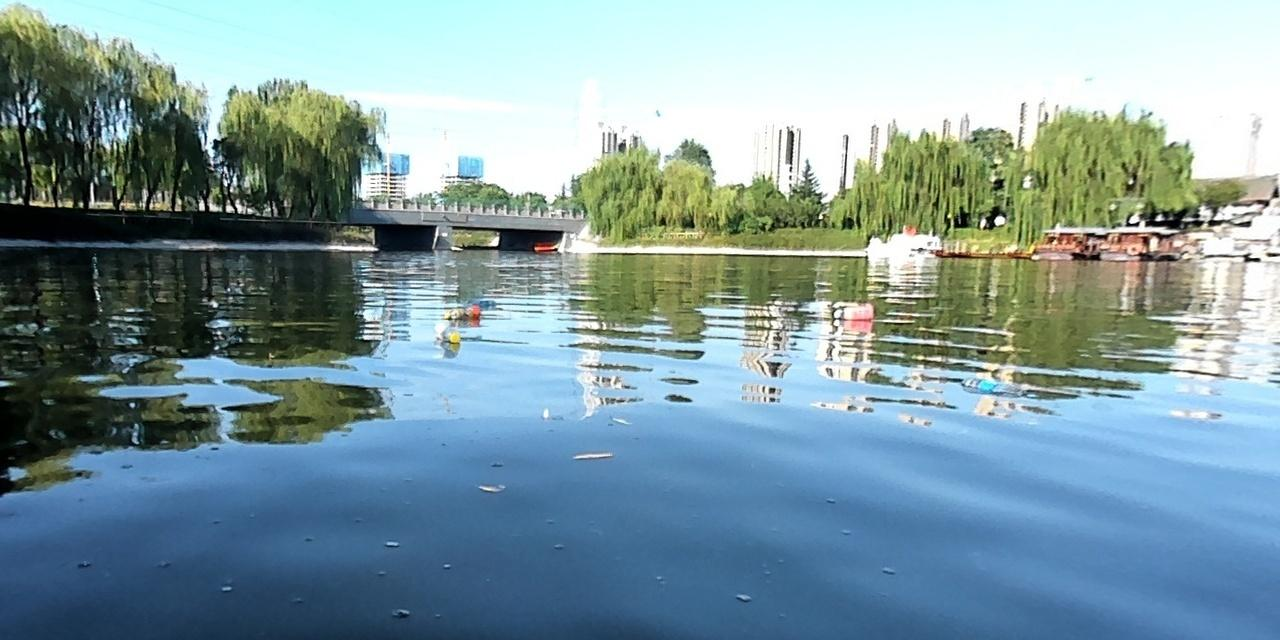bottle: (959, 372, 1025, 399), (826, 298, 876, 322), (438, 304, 483, 323), (433, 316, 458, 345)
